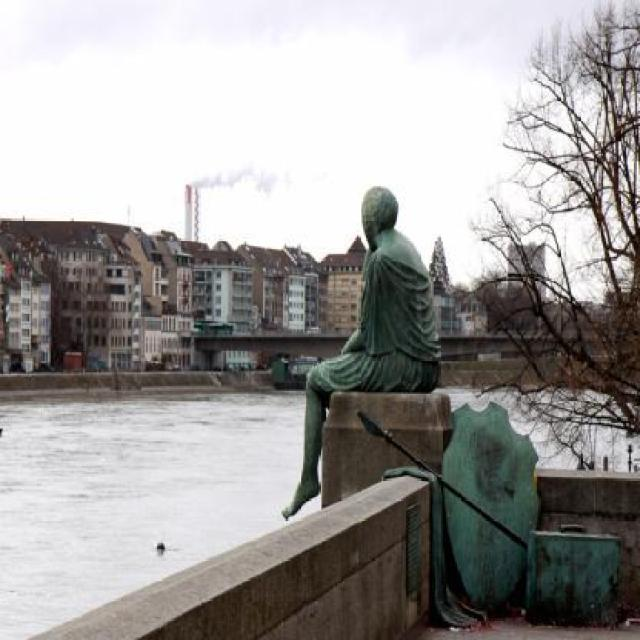Person: (281, 186, 442, 525)
